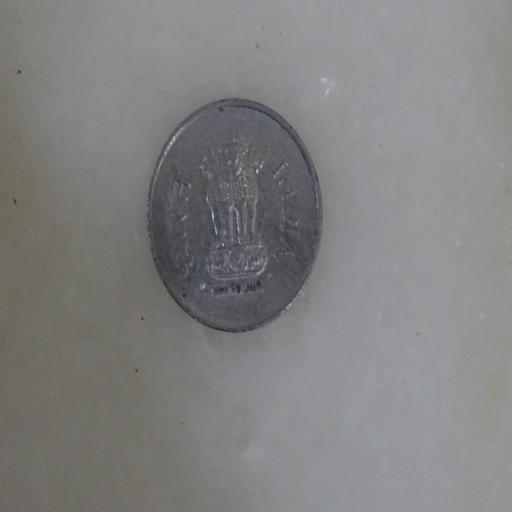rupee1: (142, 96, 324, 335)
